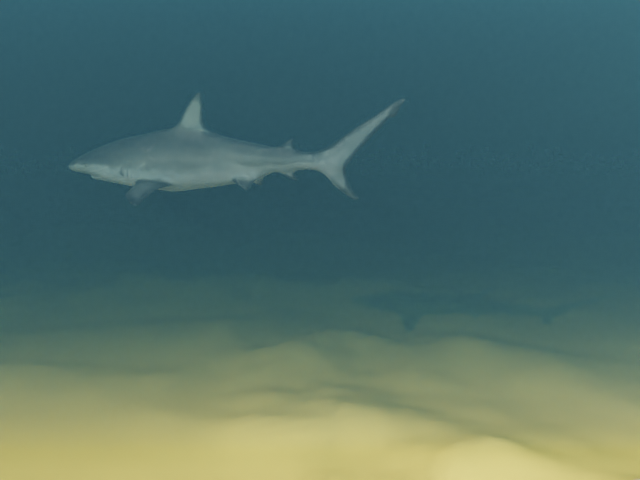Carribean Shark.001: (68, 92, 405, 205)
